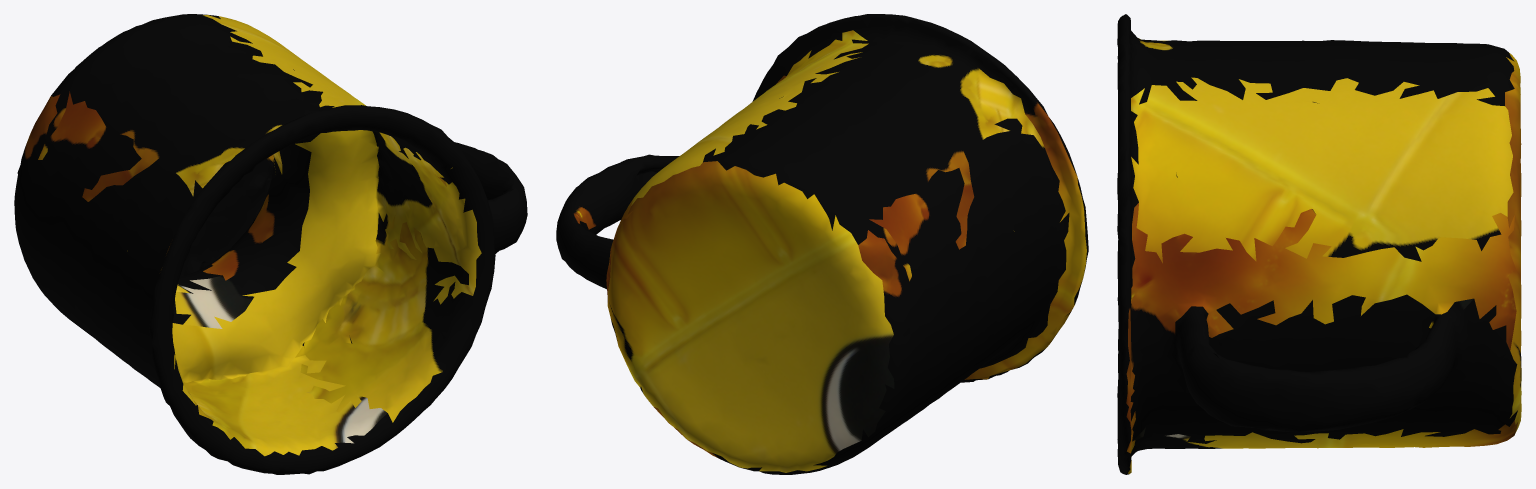
The picture shows the model from 3 angles, left to right: view 1: azimuth 30°, elevation 25°; view 2: azimuth 150°, elevation 25°; view 3: azimuth 270°, elevation 25°; orthographic projection. The views are drawn at different scales.
Size of the model in its own units: 0.117 by 0.0931 by 0.0813.
